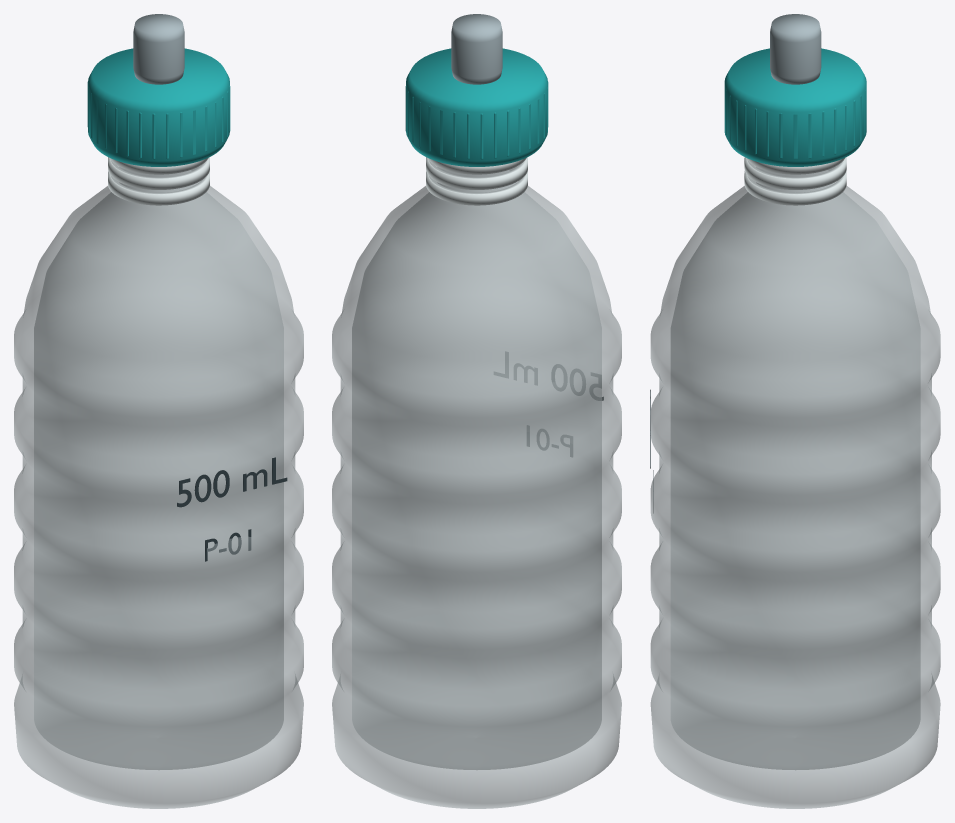
Rendered from bottle.glb.
The picture shows the model from 3 angles, left to right: view 1: azimuth 30°, elevation 25°; view 2: azimuth 150°, elevation 25°; view 3: azimuth 270°, elevation 25°; orthographic projection.
Parts seen in each view (by area): view 1: PET bottle 500 mL, Sealed air injection cap, Check valve inlet, Moulded neck thread, Moulded neck thread.001, Volume marking, Moulded neck thread.002; view 2: PET bottle 500 mL, Sealed air injection cap, Check valve inlet, Moulded neck thread, Moulded neck thread.001, Moulded neck thread.002; view 3: PET bottle 500 mL, Sealed air injection cap, Check valve inlet, Moulded neck thread, Moulded neck thread.001, Moulded neck thread.002.
Boxes of the visible parts, x1,y1,x2,y2 form: PET bottle 500 mL: (14, 161, 303, 808); Sealed air injection cap: (88, 48, 229, 166); Check valve inlet: (133, 14, 184, 84); Moulded neck thread: (108, 165, 209, 205); Moulded neck thread.001: (108, 157, 209, 189); Volume marking: (177, 457, 287, 507); Moulded neck thread.002: (109, 157, 208, 174); PET bottle 500 mL: (332, 161, 621, 808); Sealed air injection cap: (406, 48, 547, 166); Check valve inlet: (451, 14, 502, 84); Moulded neck thread: (426, 165, 527, 205); Moulded neck thread.001: (426, 157, 527, 189); Moulded neck thread.002: (427, 157, 526, 174); PET bottle 500 mL: (650, 161, 940, 808); Sealed air injection cap: (724, 48, 866, 166); Check valve inlet: (770, 14, 821, 84); Moulded neck thread: (744, 166, 846, 205); Moulded neck thread.001: (744, 157, 846, 189); Moulded neck thread.002: (746, 158, 844, 174).
Bounding box in the file's own units: 0.102 × 0.289 × 0.1021.
